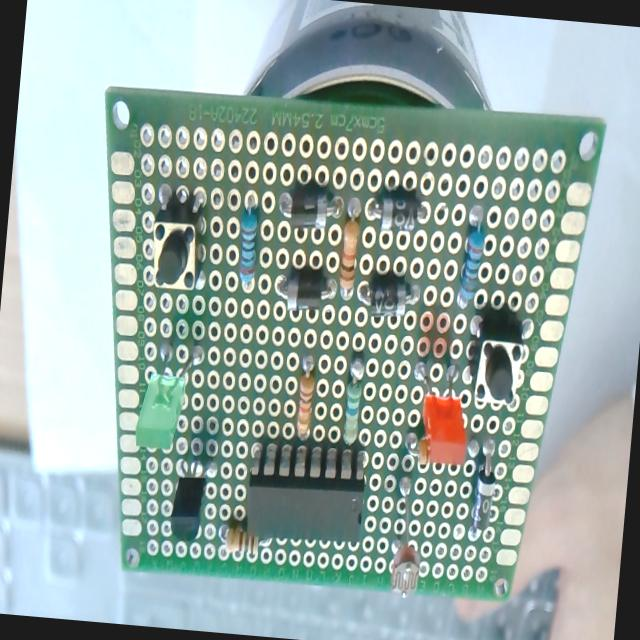IC: (240, 434, 380, 556)
cds: (376, 472, 437, 602)
diode: (461, 422, 506, 542), (356, 266, 428, 322), (362, 190, 434, 242), (272, 182, 346, 232), (266, 272, 338, 320)
led: (130, 326, 207, 456), (409, 336, 474, 474)
resistor: (446, 198, 494, 314), (330, 182, 367, 314), (228, 178, 264, 302), (278, 346, 323, 439), (334, 346, 369, 448)
switch: (141, 186, 214, 300), (464, 306, 530, 414)
transistor: (158, 450, 220, 540)
